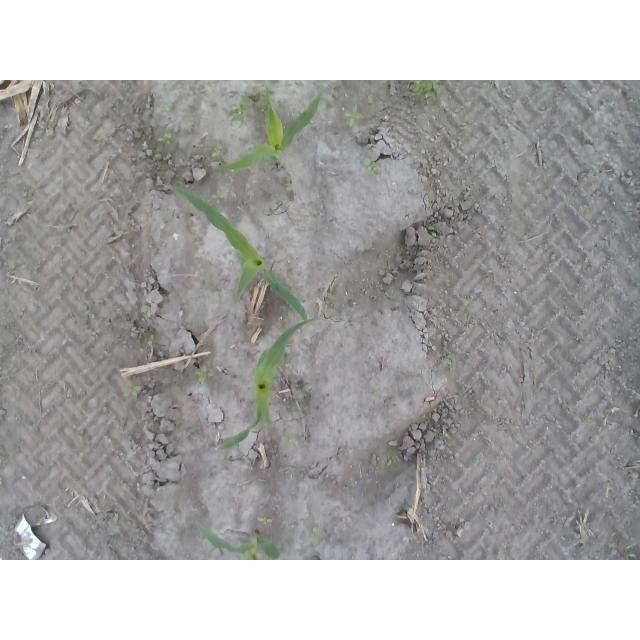Maize: (163, 184, 309, 323), (217, 316, 316, 452), (216, 93, 322, 176), (195, 526, 281, 560)
Weeds: (414, 80, 445, 105), (343, 103, 364, 129), (224, 104, 246, 125), (80, 304, 96, 321), (210, 191, 226, 206), (158, 132, 174, 146), (197, 367, 210, 383), (279, 435, 297, 446), (257, 516, 273, 528), (211, 143, 223, 158), (311, 527, 321, 545), (128, 385, 141, 398), (368, 162, 380, 175), (159, 103, 174, 113), (464, 298, 481, 306), (145, 334, 156, 345), (112, 512, 121, 522)
